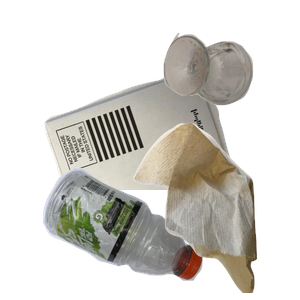glass: (161, 30, 300, 128)
paper: (42, 68, 275, 248)
plastic: (40, 165, 235, 300)
trash: (131, 120, 300, 300)
